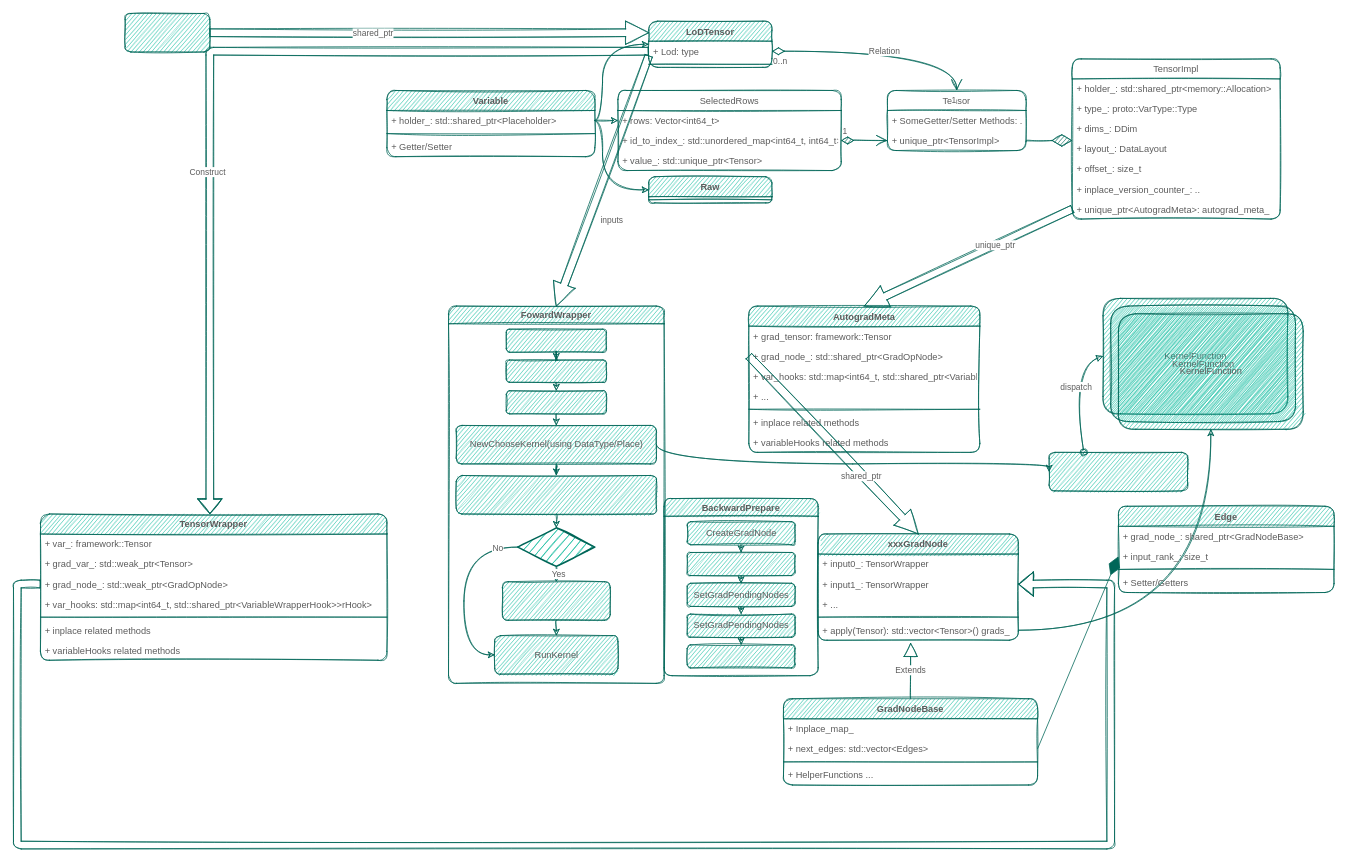
The diagram is 1348 pixels wide and 863 high, and some of its shapes have lost their labels. The shapes that lost their labels are listed below. From the top down, each one's centre as x and y in pixels, then its label:
At (x=167, y=32): "UserEnd".
At (x=556, y=340): "AutoCast For Inputs".
At (x=556, y=370): "SetDeviceId".
At (x=556, y=402): "OpInfo::InferVarType".
At (x=1118, y=471): "DispatchMacro".
At (x=555, y=494): "NewPrepareData(TransformData)".
At (x=556, y=547): "RequireGrad".
At (x=740, y=564): "SetGradNode".
At (x=556, y=600): "PrepareBackward".
At (x=740, y=656): "BindGradNodeOnOutput".
